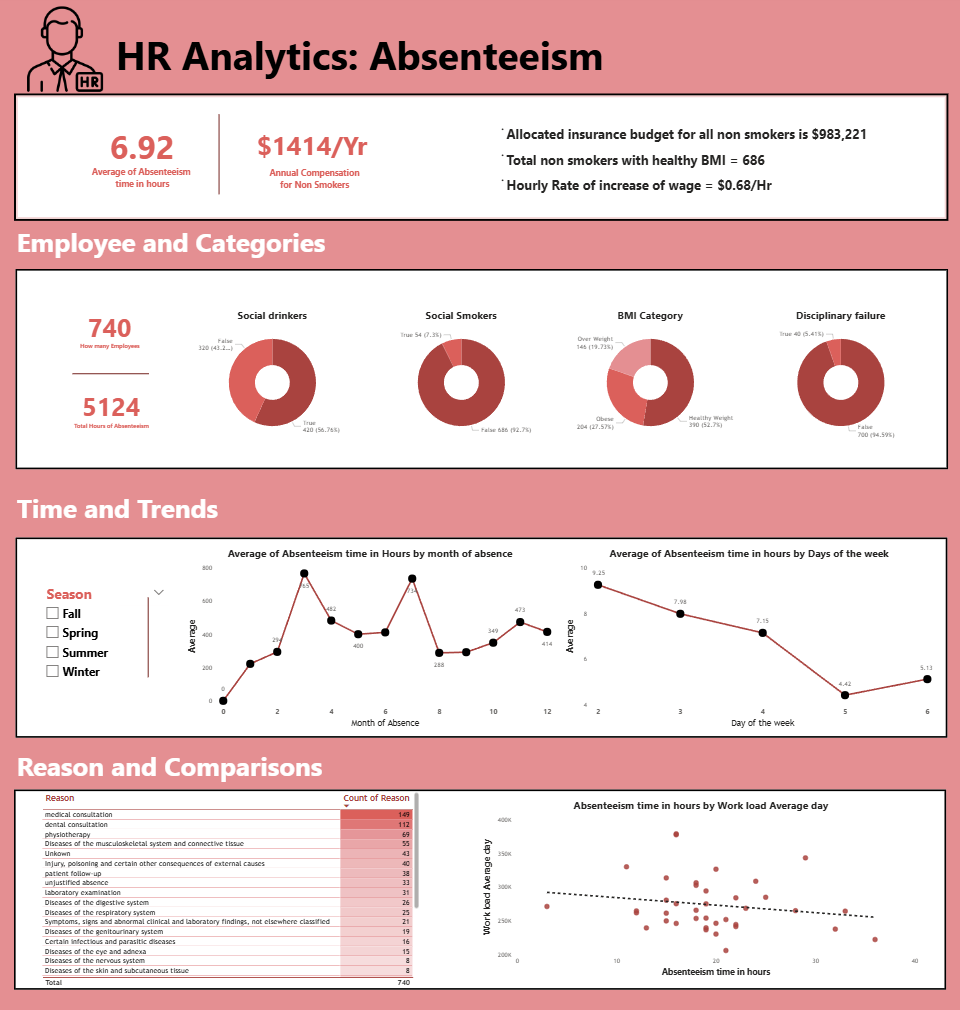

The page's visual inventory and layout, read from the dashboard file:
{"tool":"powerbi","page":{"name":"Page 1","canvas":[1880,1920],"ordinal":0},"visuals":[{"type":"shape","box":[95,192.5,1725,212.5],"z":0},{"type":"shape","box":[96,1005.1,1722,370],"z":1000},{"type":"card","fields":{"Values":["Avg(Query1.Absenteeism_time_in_hours)"]},"box":[212.5,195,235,195],"z":2000},{"type":"shape","box":[95.9,510,1723.3,370],"z":3000},{"type":"lineChart","title":"Average of Absenteeism time in Hours by month of absence ","fields":{"Category":["Query1.Month_of_absence"],"Y":["Sum(Query1.Absenteeism_time_in_hours)"]},"box":[409.3,1021.8,684,340],"z":4000},{"type":"shape","box":[94.7,1471.4,1722.5,370],"z":5000},{"type":"donutChart","title":"Social drinkers","fields":{"Y":["CountNonNull(Query1.Social_drinker)"],"Category":["Query1.Social_drinker"]},"box":[395.9,582.8,350,250],"z":6000},{"type":"lineChart","title":"Average of Absenteeism time in hours by Days of the week","fields":{"Category":["Query1.Day_of_the_week"],"Y":["Avg(Query1.Absenteeism_time_in_hours)"]},"box":[1109.3,1021.8,688,340],"z":7000},{"type":"donutChart","title":"Social Smokers","fields":{"Y":["CountNonNull(Query1.Social_smoker)"],"Category":["Query1.Social_smoker"]},"box":[745.9,582.8,350,250],"z":8000},{"type":"tableEx","fields":{"Values":["Query1.Reason","CountNonNull(Query1.Reason)"]},"box":[140,1471.2,706.2,370],"z":9000},{"type":"donutChart","title":"BMI Category","fields":{"Category":["Query1.BMI_Category"],"Y":["CountNonNull(Query1.BMI_Category)"]},"box":[1095.9,582.8,350,250],"z":10000},{"type":"donutChart","title":"Disciplinary failure","fields":{"Y":["CountNonNull(Query1.Disciplinary_failure)"],"Category":["Query1.Disciplinary_failure"]},"box":[1446.6,582.8,350,250],"z":11000},{"type":"card","fields":{"Values":["CountNonNull(Query1.ID)"]},"box":[189.8,548.9,165,146.7],"z":12000},{"type":"card","fields":{"Values":["Sum(Query1.Absenteeism_time_in_hours)"]},"box":[191.4,695.6,165,146.7],"z":13000},{"type":"shape","box":[202.6,652.7,141.4,104.3],"z":14000},{"type":"slicer","fields":{"Values":["Query1.Season_Names"]},"box":[140,1086.7,243.3,210],"z":15000},{"type":"textbox","box":[278.6,57.1,947.1,110],"z":16000},{"type":"textbox","box":[94,422,948,110],"z":17000},{"type":"textbox","box":[94,912,948,110],"z":18000},{"type":"textbox","box":[94,1390,948,110],"z":19000},{"type":"image","box":[100,18.5,178.6,168.6],"z":20000},{"type":"shape","box":[272.5,1116.2,141.2,147.5],"z":21000},{"type":"actionButton","box":[0,0,100,40],"z":22000},{"type":"textbox","box":[982.5,237.5,705,150],"z":23000},{"type":"textbox","box":[550,315,201.2,53.8],"z":24000},{"type":"textbox","box":[538.3,242.5,225,77.5],"z":25000},{"type":"shape","box":[402.5,225,142.5,147.5],"z":26000},{"type":"scatterChart","fields":{"Y":["Query1.Work_load_Average_day"],"X":["CountNonNull(Query1.Absenteeism_time_in_hours)"]},"box":[955.7,1488.6,814.3,334.3],"z":27000}]}

Visuals, with their boxes in screenshot pixels (x1, y1, x2, y2), scaled from the page's 1880x1920 canvas onto the 960x1010 screenshot:
shape: BBox(49, 101, 929, 213)
shape: BBox(49, 529, 928, 723)
card - Avg(Query1.Absenteeism_time_in_hours): BBox(109, 103, 229, 205)
shape: BBox(49, 268, 929, 463)
"Average of Absenteeism time in Hours by month of absence " lineChart: BBox(209, 538, 558, 716)
shape: BBox(48, 774, 928, 969)
"Social drinkers" donutChart: BBox(202, 307, 381, 438)
"Average of Absenteeism time in hours by Days of the week" lineChart: BBox(566, 538, 918, 716)
"Social Smokers" donutChart: BBox(381, 307, 560, 438)
tableEx - Query1.Reason x CountNonNull(Query1.Reason): BBox(71, 774, 432, 969)
"BMI Category" donutChart: BBox(560, 307, 738, 438)
"Disciplinary failure" donutChart: BBox(739, 307, 917, 438)
card - CountNonNull(Query1.ID): BBox(97, 289, 181, 366)
card - Sum(Query1.Absenteeism_time_in_hours): BBox(98, 366, 182, 443)
shape: BBox(103, 343, 176, 398)
slicer - Query1.Season_Names: BBox(71, 572, 196, 682)
textbox: BBox(142, 30, 626, 88)
textbox: BBox(48, 222, 532, 280)
textbox: BBox(48, 480, 532, 538)
textbox: BBox(48, 731, 532, 789)
image: BBox(51, 10, 142, 98)
shape: BBox(139, 587, 211, 665)
actionButton: BBox(0, 0, 51, 21)
textbox: BBox(502, 125, 862, 204)
textbox: BBox(281, 166, 384, 194)
textbox: BBox(275, 128, 390, 168)
shape: BBox(206, 118, 278, 196)
scatterChart - Query1.Work_load_Average_day x CountNonNull(Query1.Absenteeism_time_in_hours): BBox(488, 783, 904, 959)
